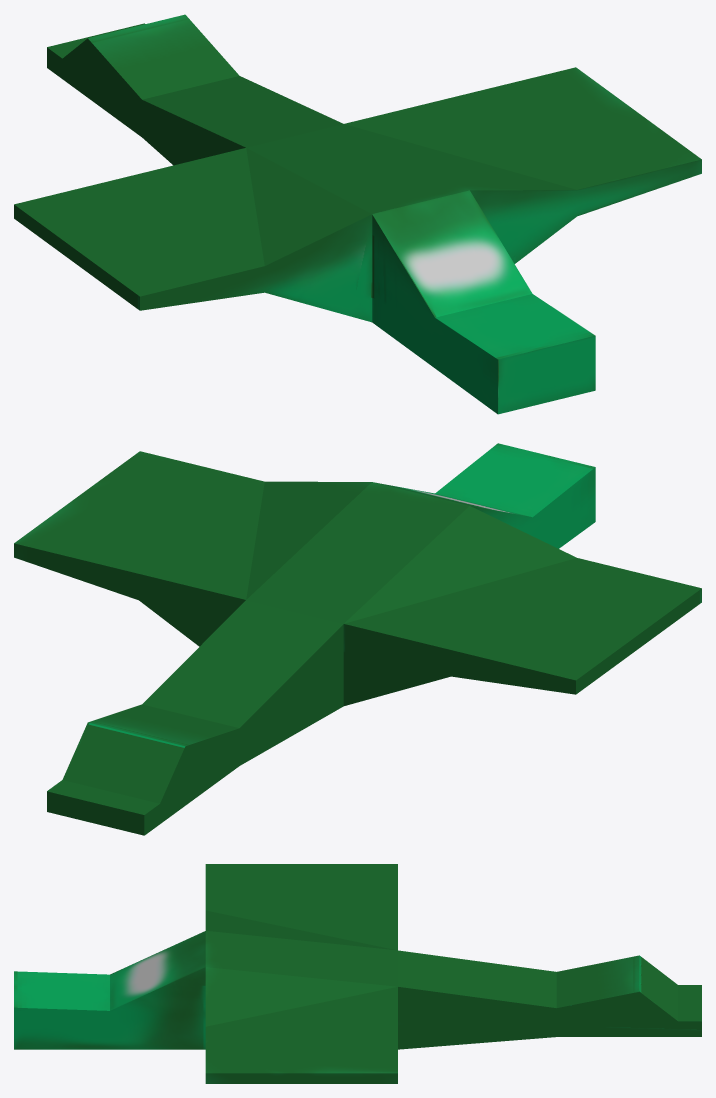
The model's file is player.obj.
The picture shows the model from 3 angles, top to bottom: view 1: azimuth 30°, elevation 25°; view 2: azimuth 150°, elevation 25°; view 3: azimuth 270°, elevation 25°; orthographic projection. The views are drawn at different scales.
Visible parts, largest first — view 1: 立方体; view 2: 立方体; view 3: 立方体.
Boxes of the visible parts, <box> form: 立方体: <box>14,14,701,414</box>; 立方体: <box>14,443,701,835</box>; 立方体: <box>14,864,701,1083</box>.
Bounding box in the file's own units: 5.98 × 1.1 × 8.31.
1 material, 1 textured.
